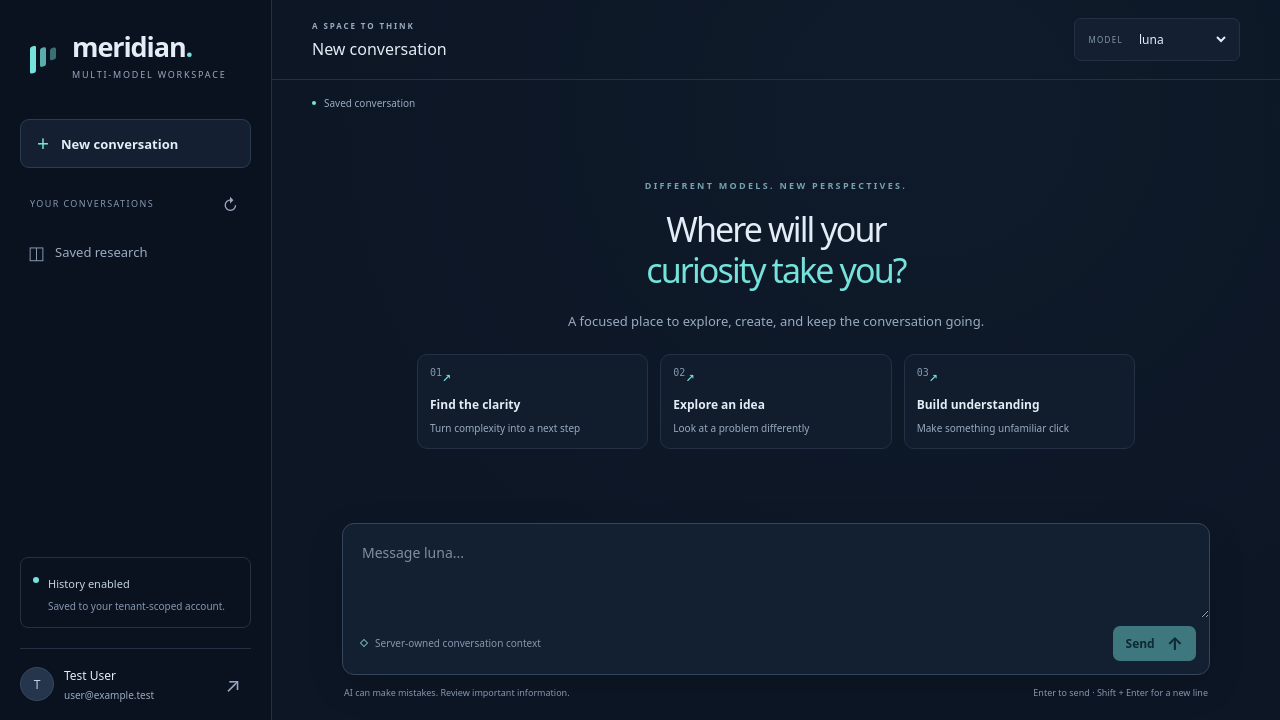
it: workspace user states › shows a persisted pending result as unfinalized, not a live or completed generation
Click the button "◫ Saved research". click: x=136, y=252
box: [16, 228, 255, 276]
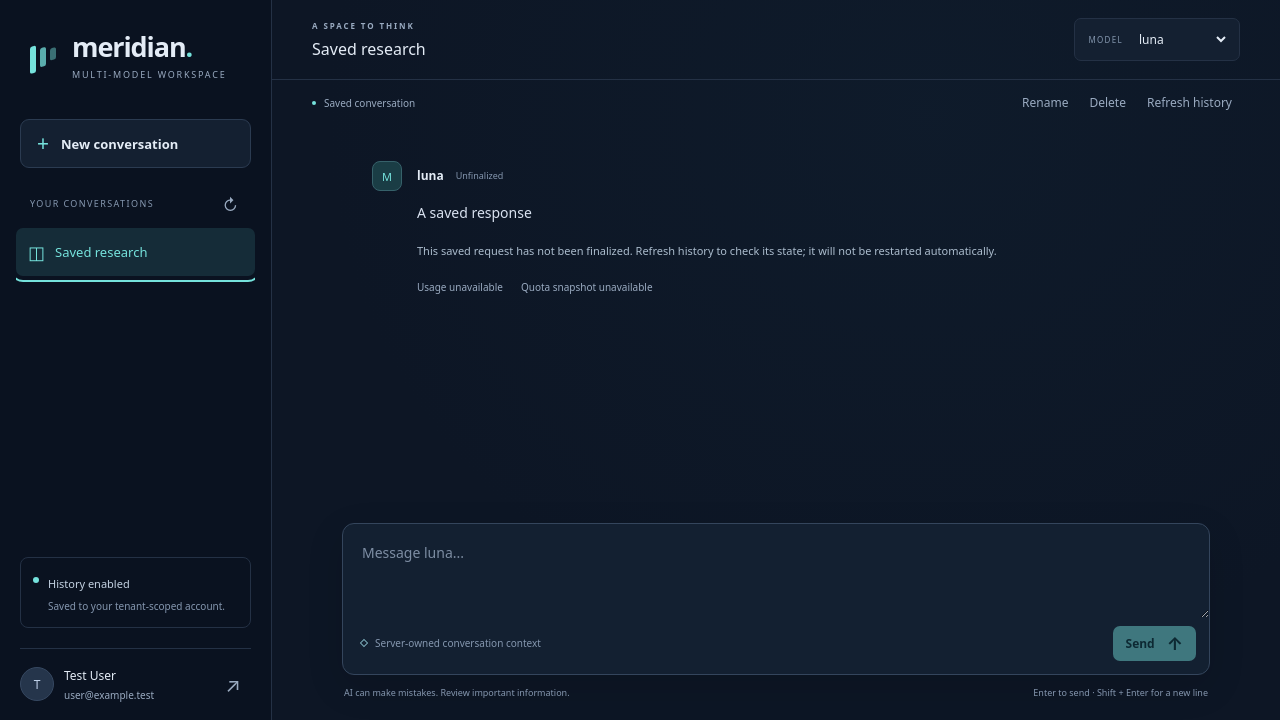
Check: the text "Unfinalized" is shown, box [456, 169, 503, 182]
Check: the text "This saved request has not been finalized" is shown, box [417, 243, 997, 258]
Check: the text "Usage unavailable" is shown, box [417, 279, 503, 295]
